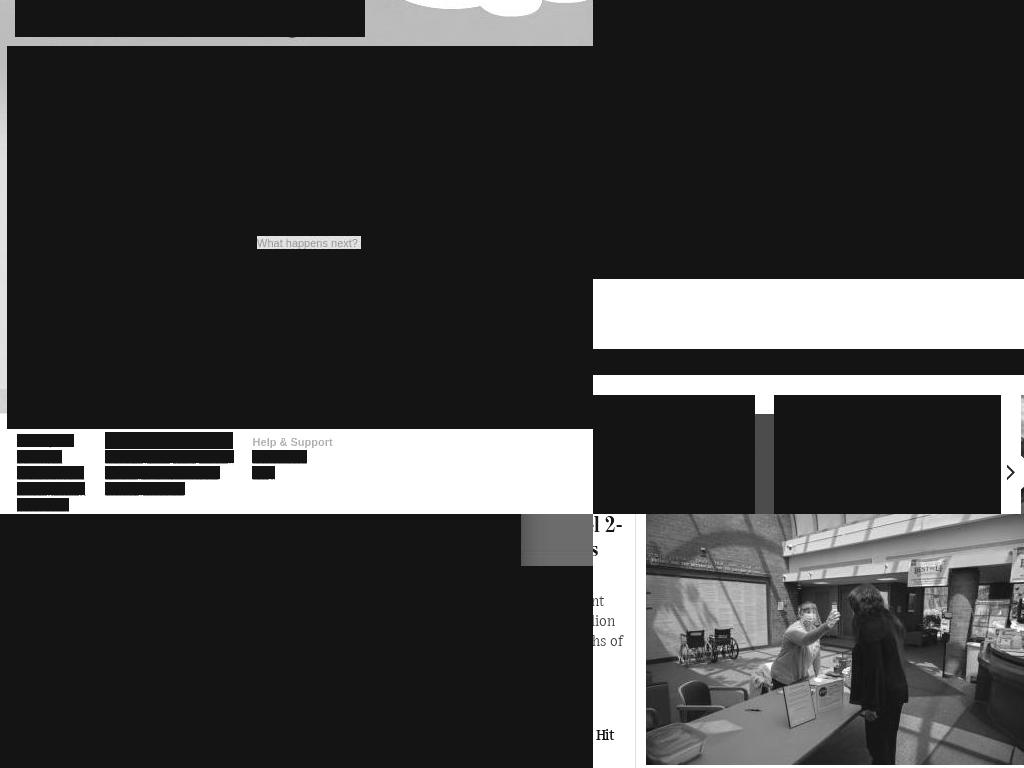button: (0, 514, 521, 768), (0, 566, 593, 768), (646, 514, 1024, 765), (774, 395, 1001, 514), (90, 172, 593, 216), (593, 395, 755, 514), (15, 0, 365, 37), (0, 514, 496, 533), (989, 452, 1024, 496), (1020, 395, 1024, 514)
field: (593, 111, 773, 171)
heading: (593, 37, 990, 91), (593, 349, 1024, 375), (593, 472, 808, 506)
image: (7, 46, 593, 429), (0, 514, 521, 768), (593, 0, 1024, 279), (0, 566, 593, 768), (646, 514, 1024, 765), (774, 395, 1001, 514), (276, 106, 593, 175), (593, 395, 755, 514), (15, 0, 237, 19), (989, 452, 1024, 493), (716, 403, 745, 431), (962, 403, 991, 431), (959, 429, 983, 453), (1020, 395, 1024, 514)
link: (105, 450, 234, 463), (105, 466, 220, 479), (105, 482, 185, 495), (17, 482, 85, 495), (17, 466, 84, 479), (252, 450, 307, 463), (17, 498, 69, 511), (17, 450, 62, 463), (252, 466, 275, 479)
text: (114, 179, 593, 209), (15, 18, 365, 37), (105, 432, 233, 449), (119, 283, 231, 298), (121, 271, 229, 286), (484, 236, 593, 249), (257, 236, 362, 249), (375, 236, 470, 249), (252, 432, 323, 449), (42, 434, 74, 447), (17, 434, 43, 447), (470, 234, 485, 249), (361, 234, 375, 249)
